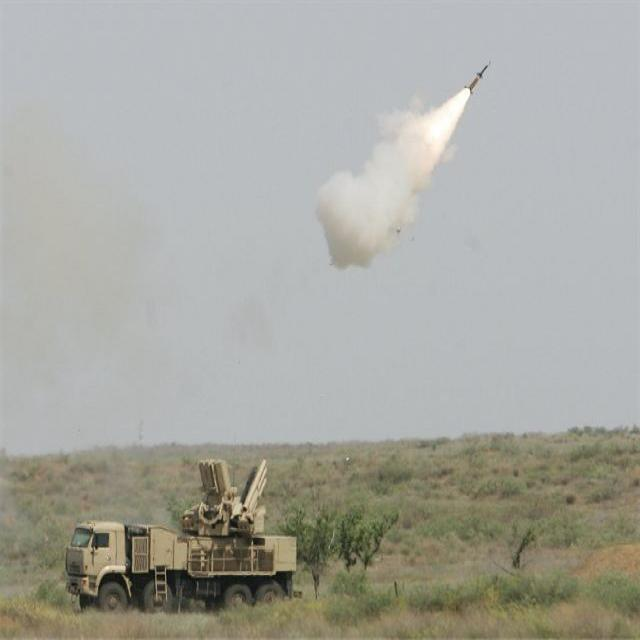missile: (462, 51, 492, 107)
